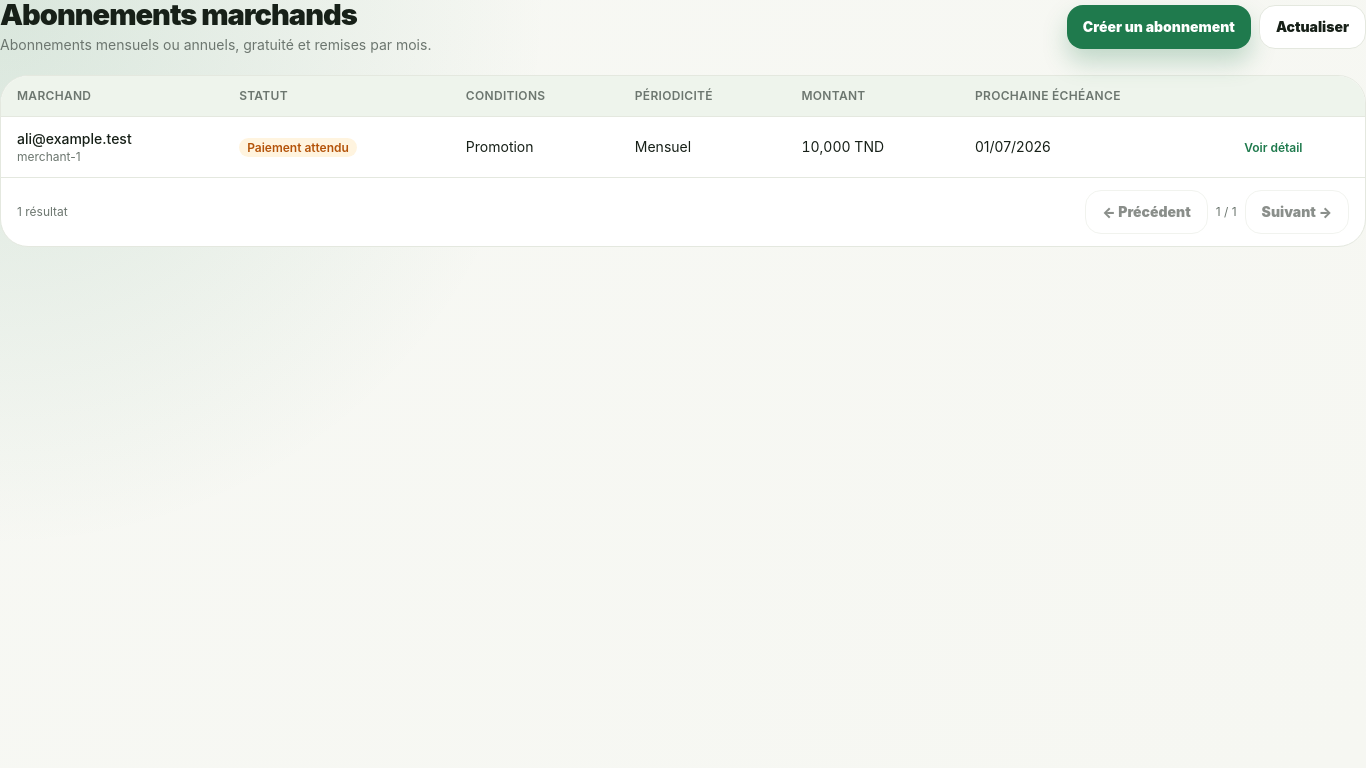
Test case: AdminSubscriptionsPage › opens pricing management from the subscription detail
The image size is (1366, 768).
What coordinates should you click on to do the following:
click the button with aria-label "Voir le détail abonnement"
I would click on:
 (1273, 148)
Its box is [1244, 140, 1302, 156].
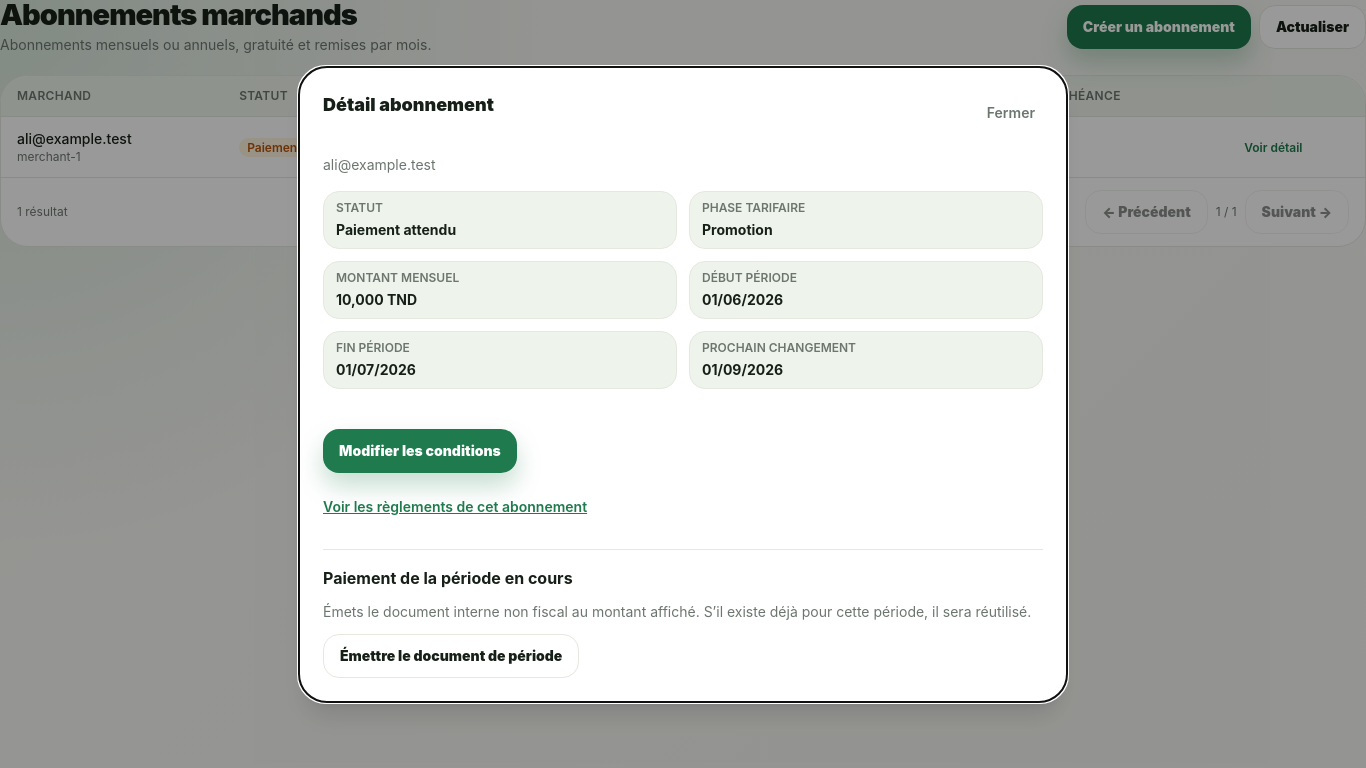
What coordinates should you click on to do the following:
click the button "Modifier les conditions"
I would click on:
 (420, 450)
Its box is [323, 428, 517, 472].
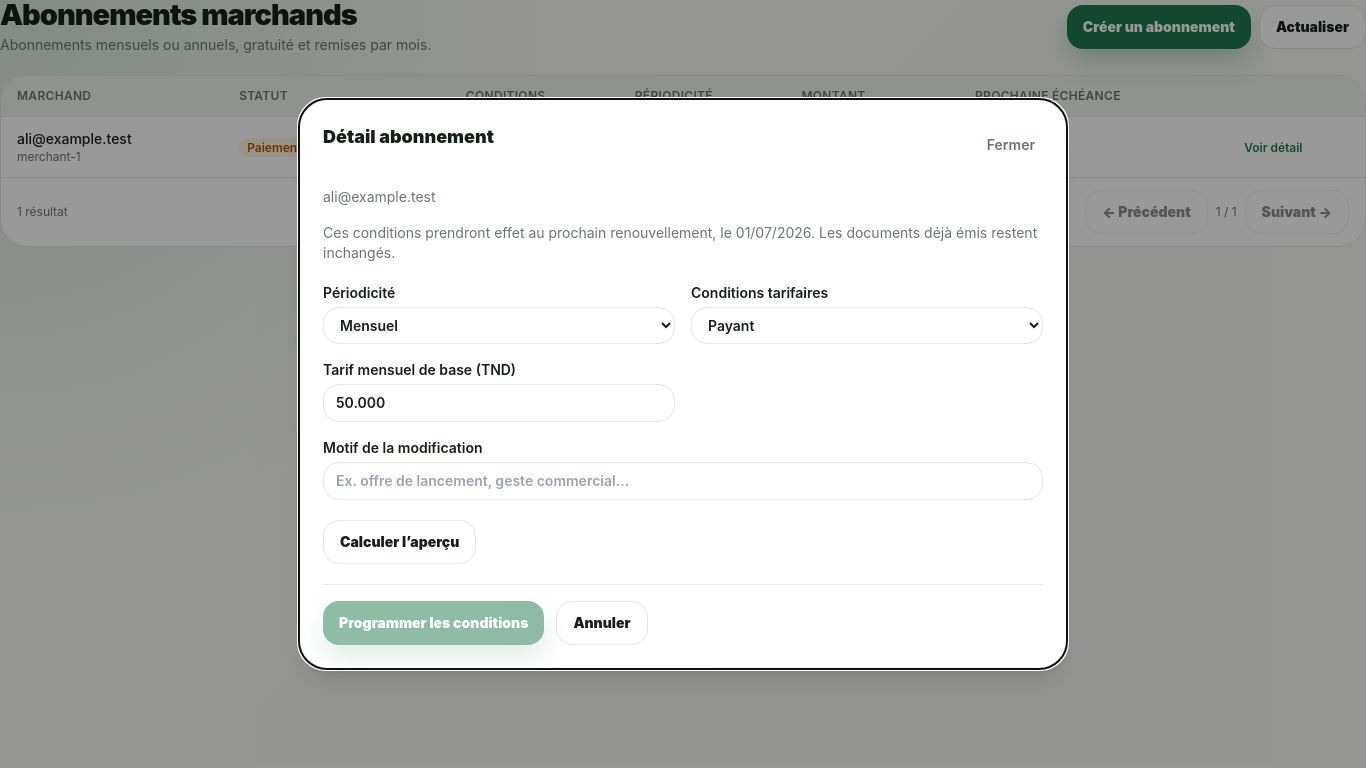
Expected: the dropdown labelled "Périodicité" is shown, [323, 307, 675, 344]
Expected: the button "Programmer les conditions" is disabled, [323, 601, 544, 645]
